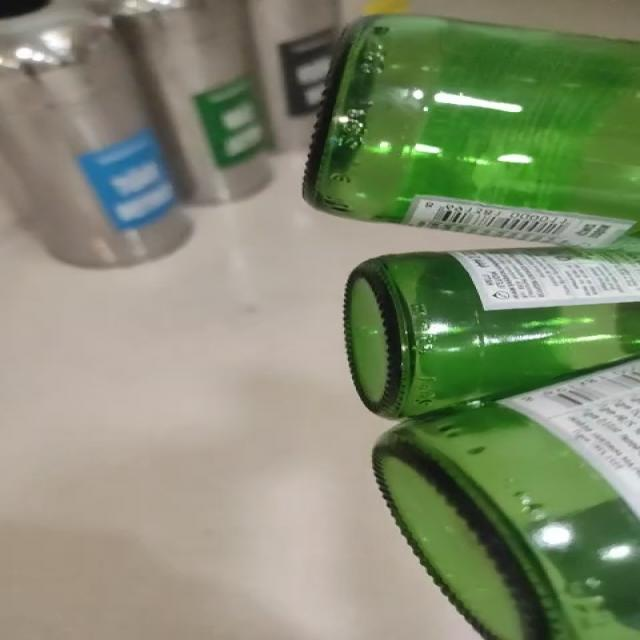glass: (303, 15, 639, 640)
